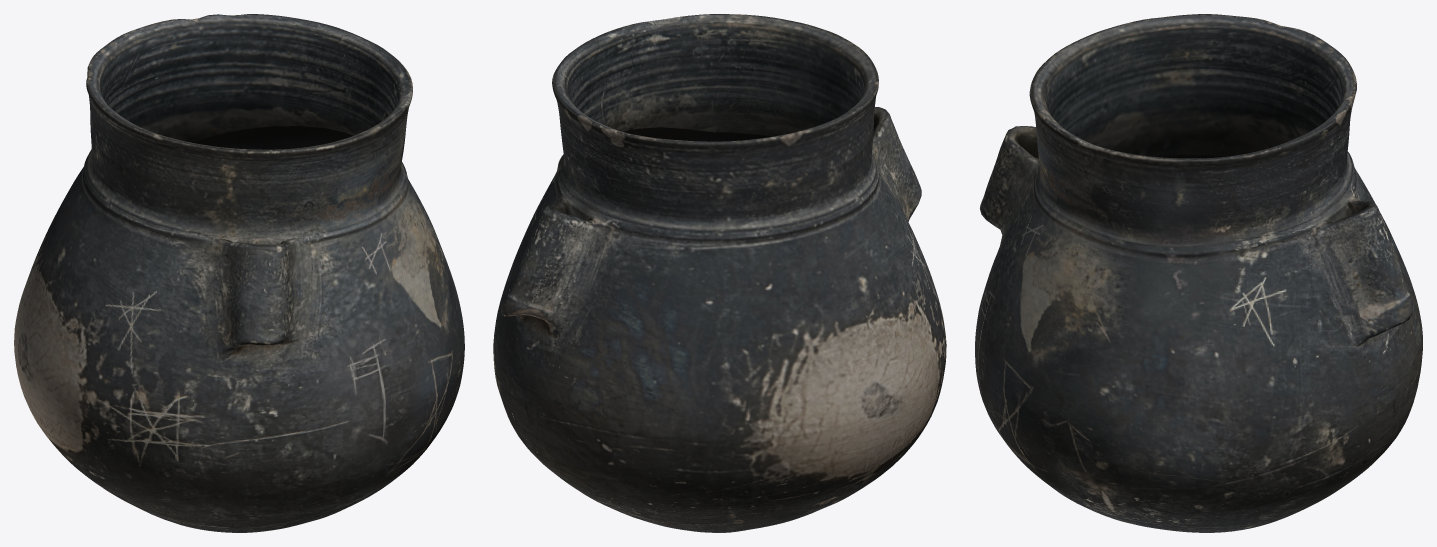
Rendered from jar.glb.
3 renders of one model, left to right at view 1: azimuth 30°, elevation 25°; view 2: azimuth 150°, elevation 25°; view 3: azimuth 270°, elevation 25°, orthographic.
Parts seen in each view (by area): view 1: 1679_带刻划符号黑衣陶鱼篓形贯耳罐_一级文物; view 2: 1679_带刻划符号黑衣陶鱼篓形贯耳罐_一级文物; view 3: 1679_带刻划符号黑衣陶鱼篓形贯耳罐_一级文物.
Part boxes in pixels (left/top/right/bottom): 1679_带刻划符号黑衣陶鱼篓形贯耳罐_一级文物: left=14, top=14, right=464, bottom=532; 1679_带刻划符号黑衣陶鱼篓形贯耳罐_一级文物: left=493, top=14, right=946, bottom=532; 1679_带刻划符号黑衣陶鱼篓形贯耳罐_一级文物: left=975, top=14, right=1422, bottom=532.
Bounding box in the file's own units: 1.98 × 2 × 1.97.
1 material, 1 textured.
